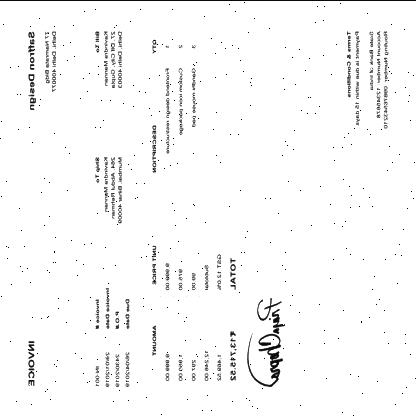Paragraph: (202, 251, 241, 385), (344, 27, 390, 129), (93, 284, 132, 388), (26, 27, 58, 110), (92, 153, 124, 225), (94, 28, 124, 90), (27, 338, 36, 386)
Table: (147, 30, 199, 386)
